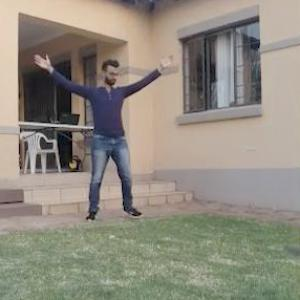takeoff: (23, 48, 174, 218)
